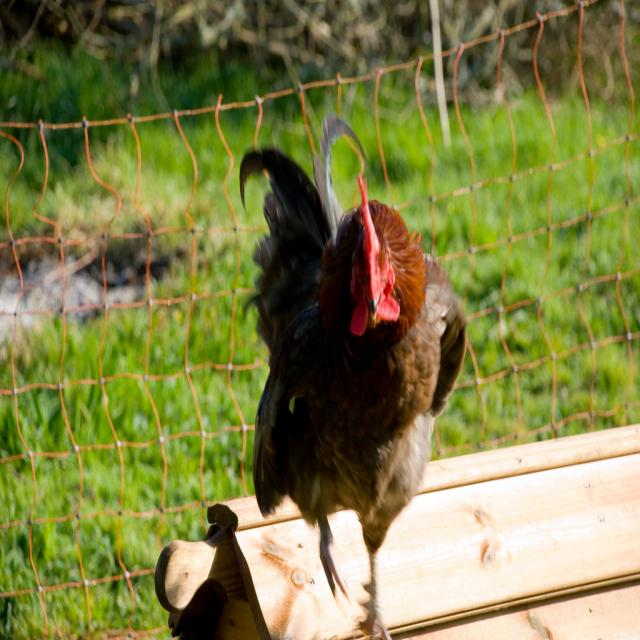Chicken: (240, 137, 467, 635)
